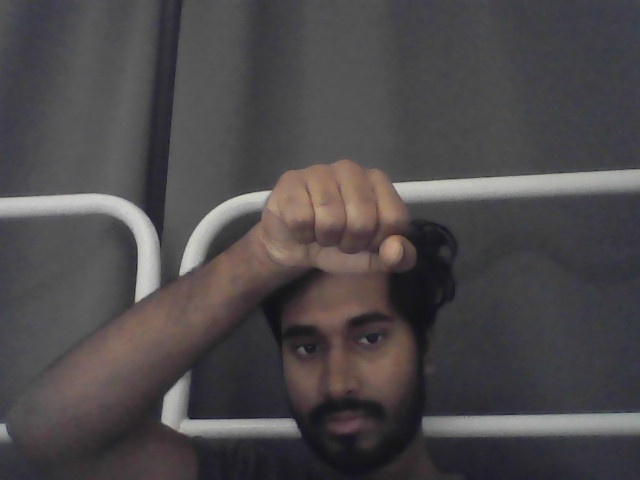yes: (256, 160, 418, 278)
